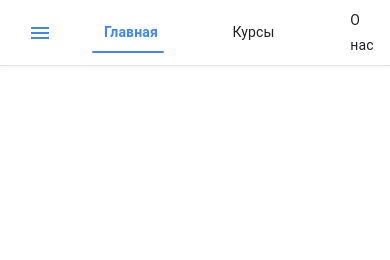
Test case: Header компонент › открывает мобильное меню
The width and height of the screenshot is (390, 260).
Step 1. Click the button named "меню навигации" → x=40, y=32, box [16, 8, 64, 56]
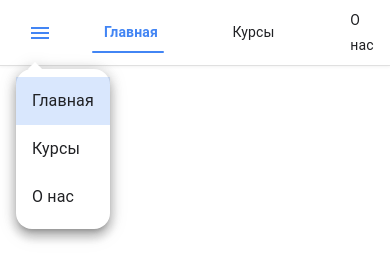
Now the menu is shown, box [16, 69, 110, 229]
